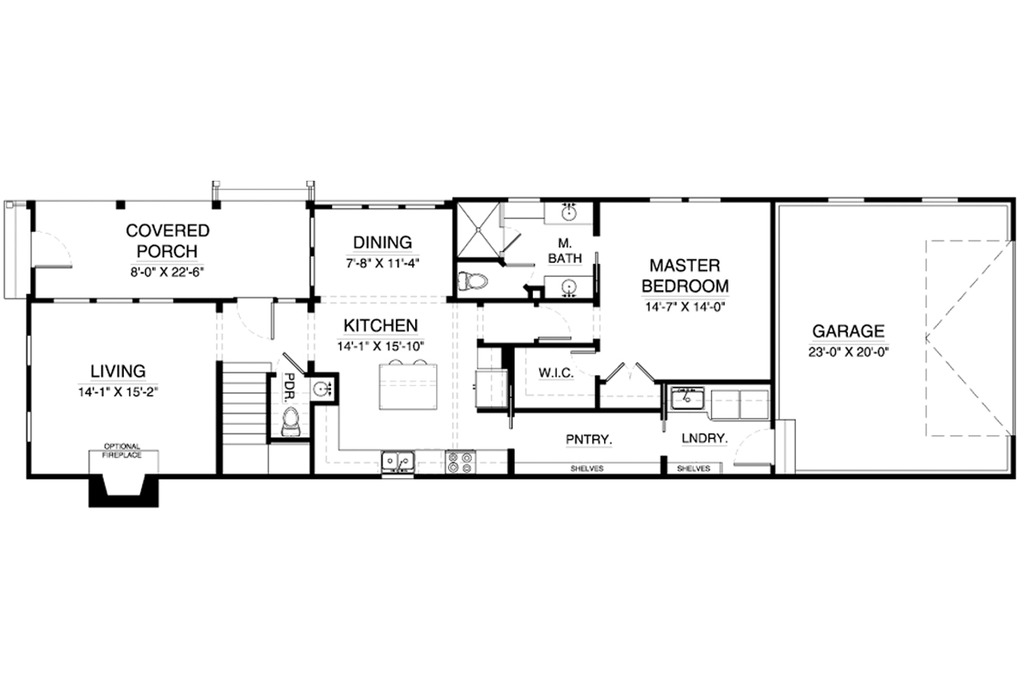door: (234, 296, 274, 340), (733, 425, 773, 466), (32, 233, 77, 269), (597, 357, 654, 385), (531, 305, 568, 339), (569, 350, 594, 380), (508, 263, 535, 287), (503, 226, 519, 256)
kitchen_bar: (373, 355, 445, 410)
large_sink: (457, 263, 494, 295), (278, 404, 303, 445)
small_sink: (550, 275, 596, 301), (547, 201, 594, 223), (314, 374, 334, 399)
stairs: (213, 360, 271, 445)
twin_sink: (374, 447, 421, 479)
window: (319, 198, 440, 213), (827, 196, 869, 209), (651, 196, 725, 201)
